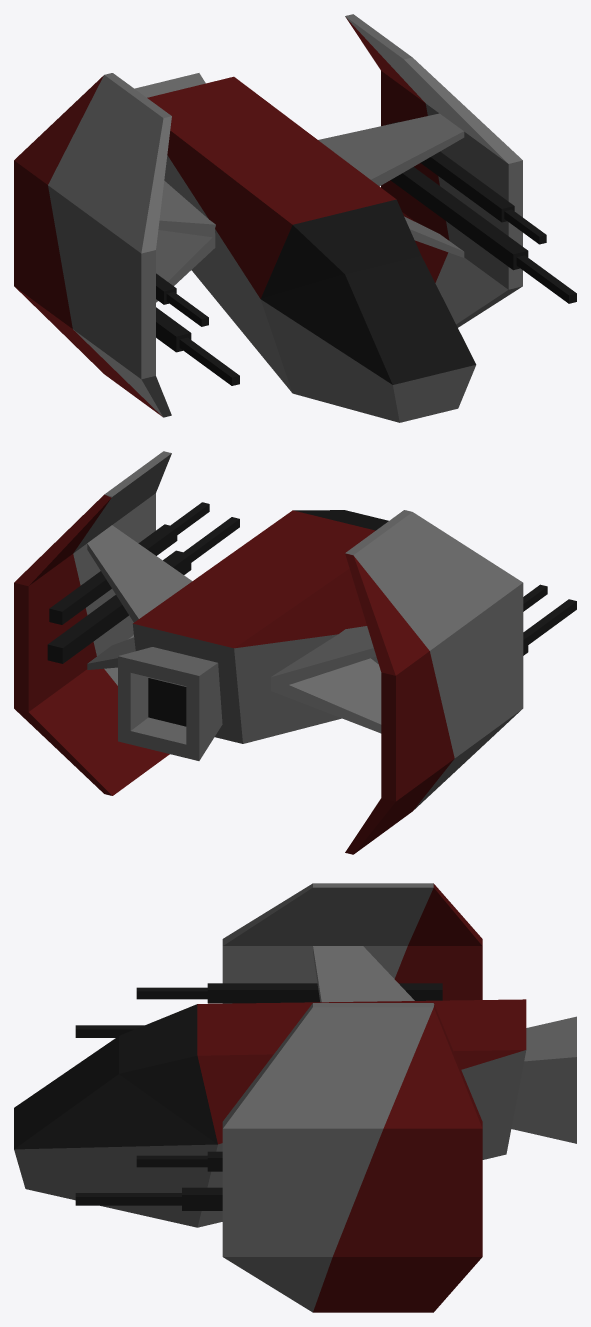
File: spaceship.obj
The picture shows the model from 3 angles, top to bottom: view 1: azimuth 30°, elevation 25°; view 2: azimuth 150°, elevation 25°; view 3: azimuth 270°, elevation 25°; orthographic projection.
Parts seen in each view (by area): view 1: Lo_poly_Spaceship_04_by_Liz_Reddington; view 2: Lo_poly_Spaceship_04_by_Liz_Reddington; view 3: Lo_poly_Spaceship_04_by_Liz_Reddington.
Boxes of the visible parts, x1,y1,x2,y2 form: Lo_poly_Spaceship_04_by_Liz_Reddington: [14, 14, 576, 422]; Lo_poly_Spaceship_04_by_Liz_Reddington: [14, 451, 576, 854]; Lo_poly_Spaceship_04_by_Liz_Reddington: [14, 883, 576, 1312].
Bounding box in the file's own units: 337 × 253 × 422.
